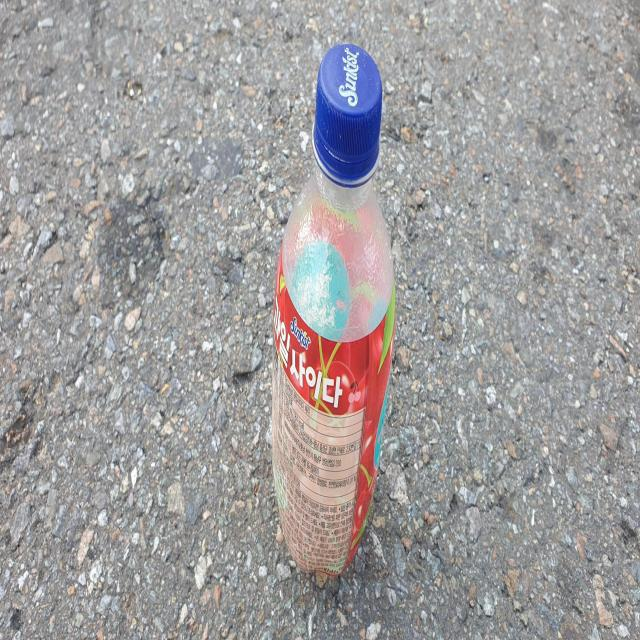plastic: (272, 41, 396, 576)
